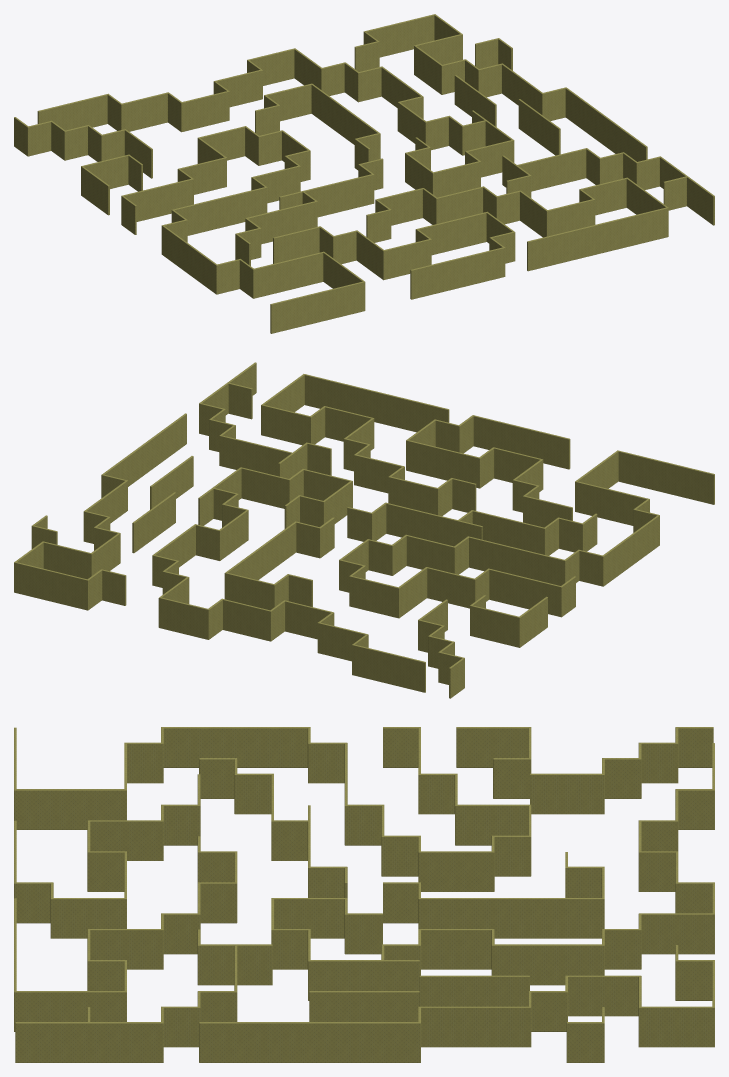
The model's file is maze.fbx.
The picture shows the model from 3 angles, top to bottom: view 1: azimuth 30°, elevation 25°; view 2: azimuth 150°, elevation 25°; view 3: azimuth 270°, elevation 25°; orthographic projection. The views are drawn at different scales.
Parts seen in each view (by area): view 1: Maze; view 2: Maze; view 3: Maze.
Part boxes in pixels (box(x1,y1,x2,y2)): Maze: box(14, 14, 714, 333); Maze: box(14, 362, 714, 698); Maze: box(14, 727, 714, 1062).
Bounding box in the file's own units: 3815 × 240 × 3815.
